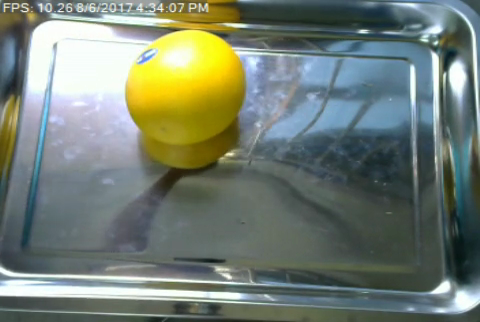Orange: (124, 29, 246, 144)
